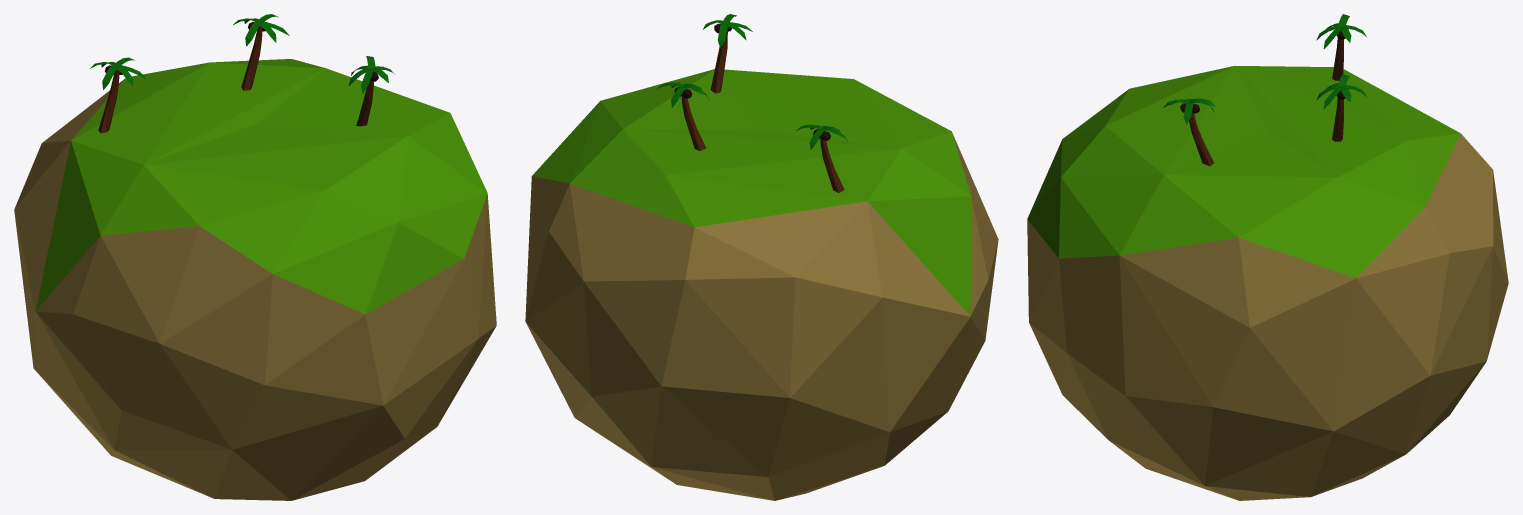
The model's file is island.obj.
The picture shows the model from 3 angles, left to right: view 1: azimuth 30°, elevation 25°; view 2: azimuth 150°, elevation 25°; view 3: azimuth 270°, elevation 25°; orthographic projection. The views are drawn at different scales.
Parts seen in each view (by area): view 1: Island_Sphere.001, Cylinder.002_Cylinder.003, Cylinder.001_Cylinder.002; view 2: Island_Sphere.001, Cylinder_Cylinder.001; view 3: Island_Sphere.001.
Boxes of the visible parts, x1,y1,x2,y2 form: Island_Sphere.001: [14, 59, 496, 500]; Cylinder.002_Cylinder.003: [241, 26, 262, 90]; Cylinder.001_Cylinder.002: [98, 69, 119, 133]; Island_Sphere.001: [525, 69, 998, 500]; Cylinder_Cylinder.001: [710, 26, 727, 93]; Island_Sphere.001: [1027, 66, 1508, 500].
Bounding box in the file's own units: 2.04 × 1.92 × 2.01.
